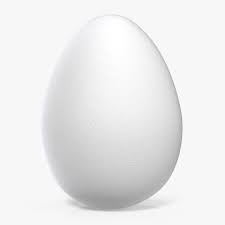eggs: (50, 7, 179, 213)
